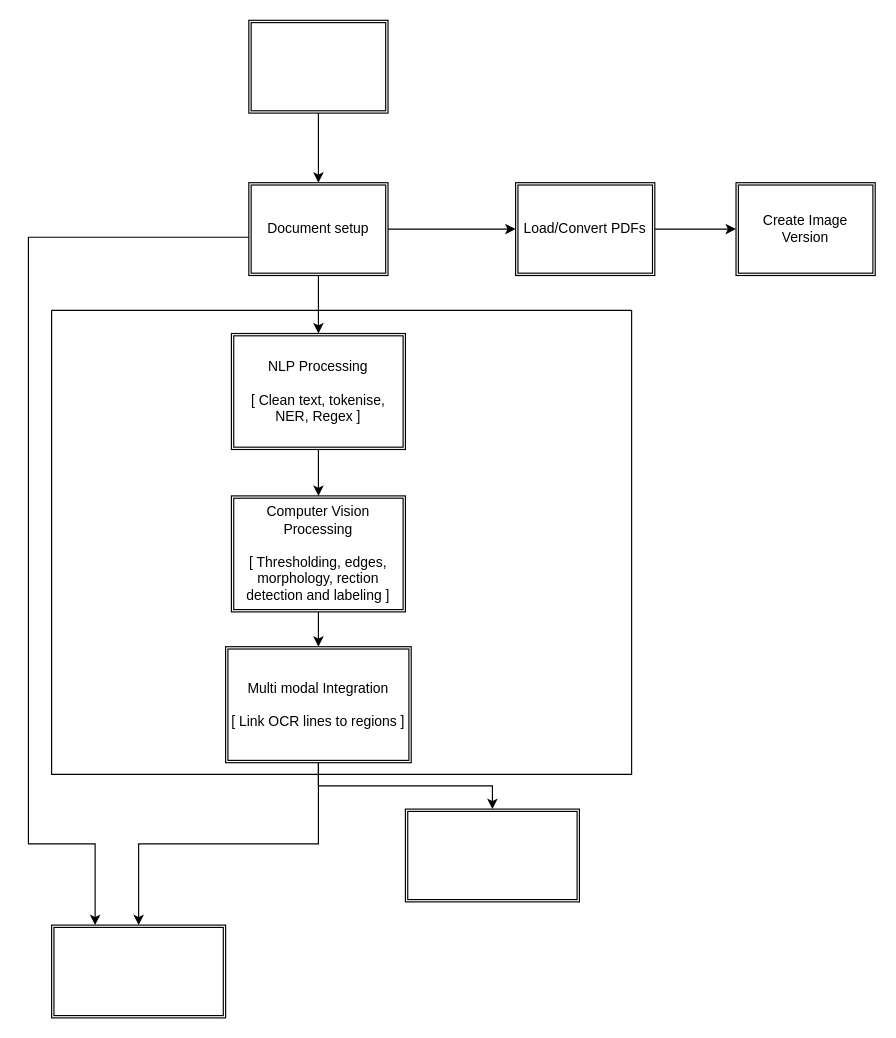
Image size: 896x1038. Some labels were removed from this diagram. Each missing label, with the centre of its shape:
Final Report - Single Run: [491,855]
Input documents: [318,66]
Run All Documents [ Display results and comparison for all documents ]: [138,971]
